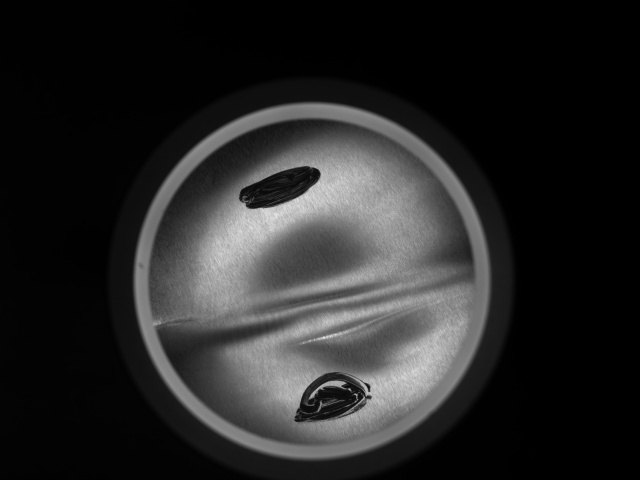zang_wu: (292, 370, 376, 427), (238, 163, 325, 211)
zhe_zhou: (197, 145, 428, 417)
